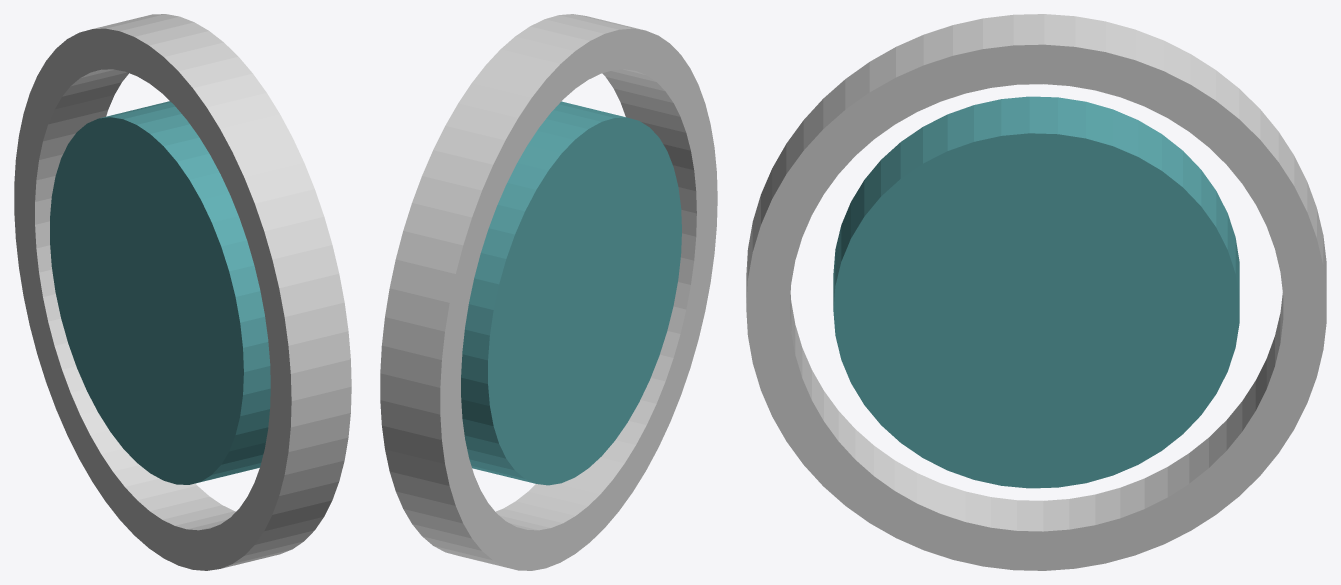
Rendered from pin_maritimo.glb.
The picture shows the model from 3 angles, left to right: view 1: azimuth 30°, elevation 25°; view 2: azimuth 150°, elevation 25°; view 3: azimuth 270°, elevation 25°; orthographic projection. The views are drawn at different scales.
Parts seen in each view (by area): view 1: Mesh_Mesh_head_geo.001_lambert2SG.001; view 2: Mesh_Mesh_head_geo.001_lambert2SG.001; view 3: Mesh_Mesh_head_geo.001_lambert2SG.001.
Boxes of the visible parts, <box> form: Mesh_Mesh_head_geo.001_lambert2SG.001: <box>14,14,351,570</box>; Mesh_Mesh_head_geo.001_lambert2SG.001: <box>380,14,717,570</box>; Mesh_Mesh_head_geo.001_lambert2SG.001: <box>746,14,1326,570</box>.
Size of the model in its own units: 6 by 39.99 by 39.97.
